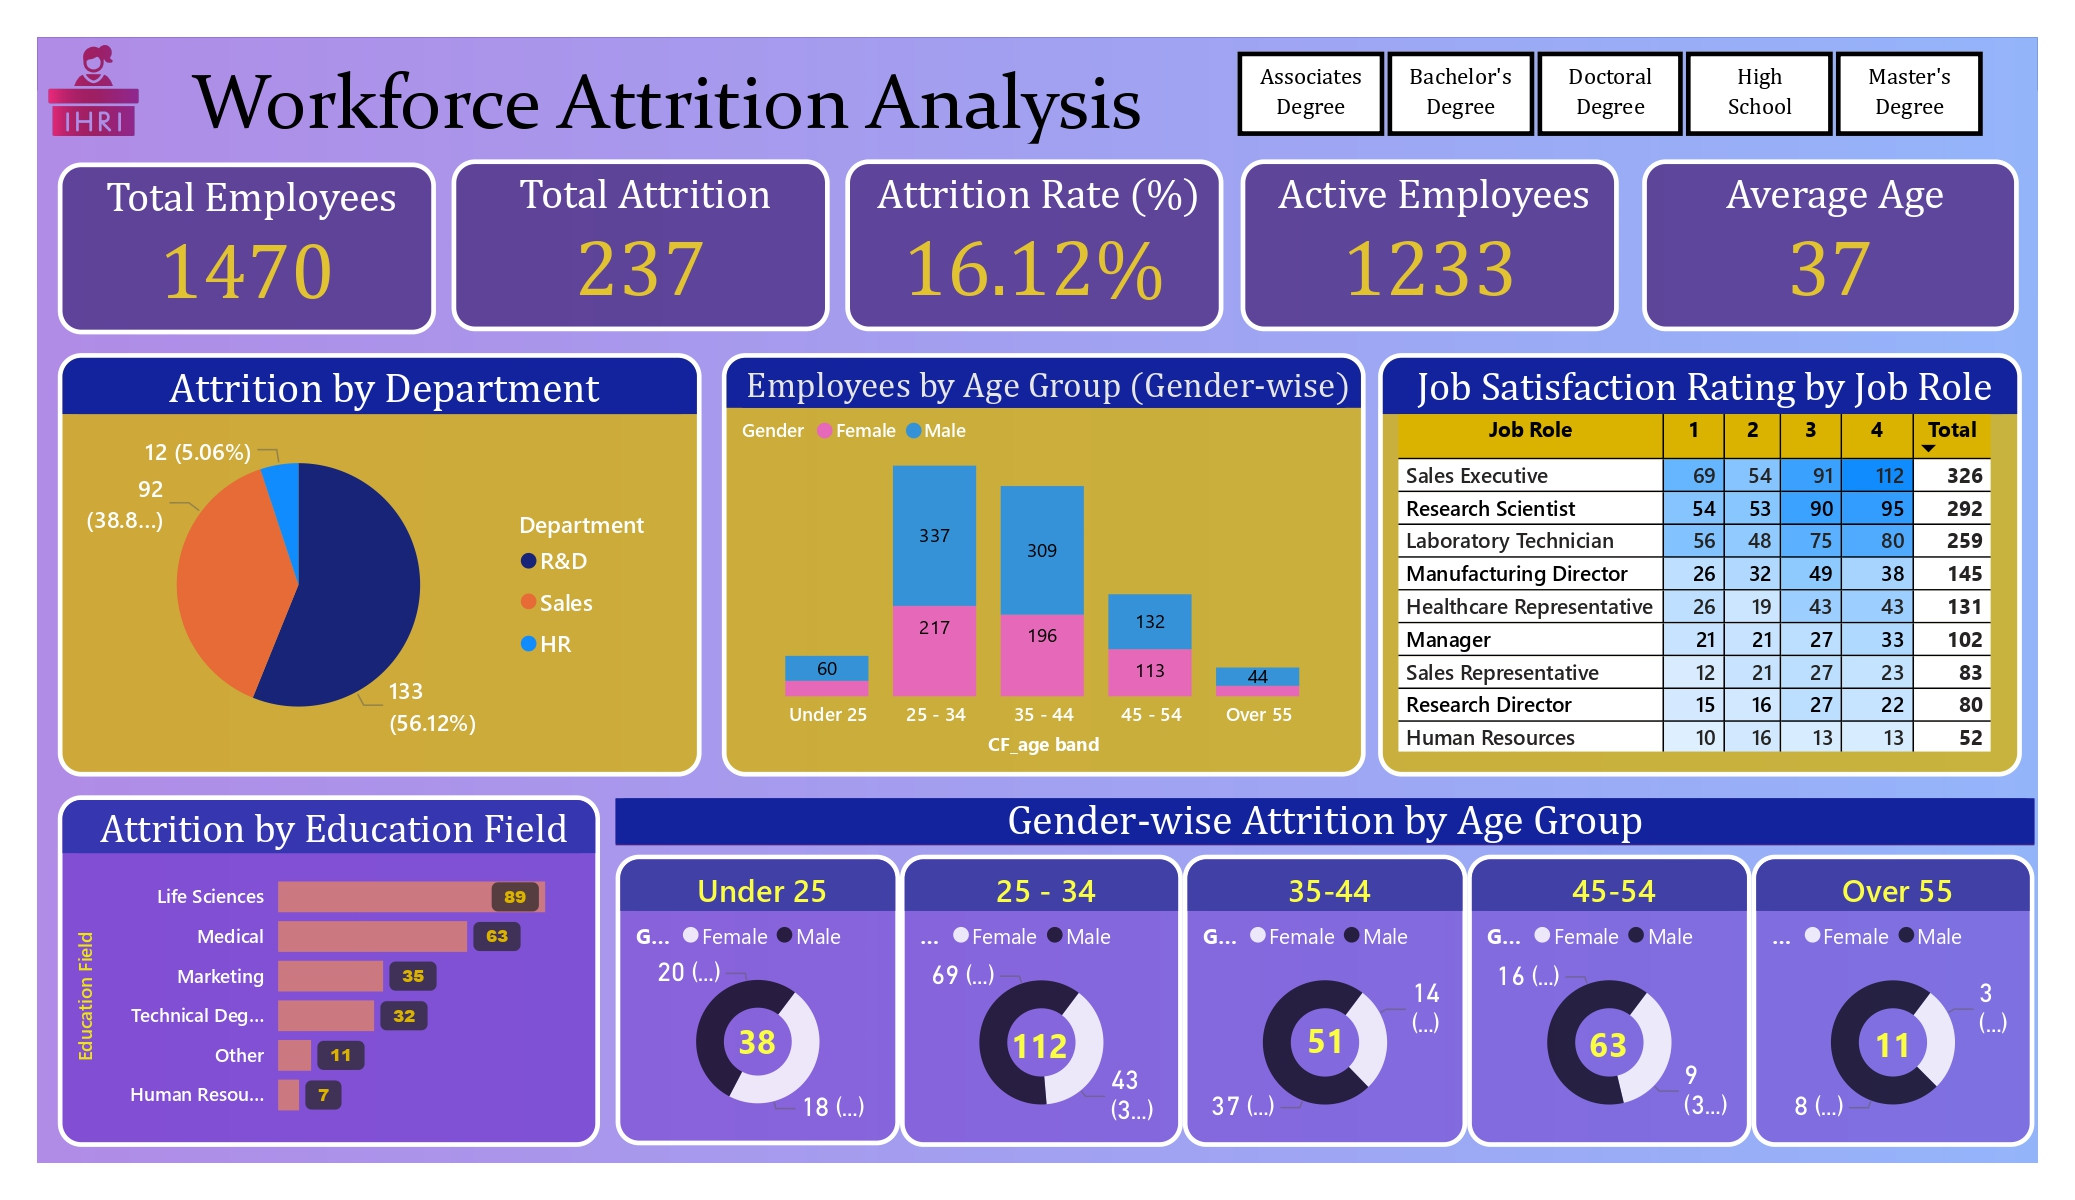

This screenshot's page, from the dashboard's own definition file:
{"tool":"powerbi","page":{"name":"Page 1","canvas":[1280,720],"ordinal":0},"visuals":[{"type":"card","title":"Total Employees","fields":{"Values":["Sum(HR data.Employee Count)"]},"box":[13.3,80,242,110],"z":0},{"type":"card","title":"Total Attrition","fields":{"Values":["Sum(HR data.Attrition Count)"]},"box":[265,78.3,242,110],"z":1000},{"type":"card","title":"Attrition Rate (%)","fields":{"Values":["HR data.Attrition_Count"]},"box":[516.7,78.3,242,110],"z":2000},{"type":"card","title":"Active Employees","fields":{"Values":["HR data.Active_Employees"]},"box":[770,78.3,242,110],"z":3000},{"type":"card","title":"Average Age ","fields":{"Values":["Avg(HR data.Age)"]},"box":[1026.7,78.3,241.7,110],"z":4000},{"type":"pieChart","title":"Attrition by Department","fields":{"Category":["HR data.Department"],"Y":["Sum(HR data.Attrition Count)"]},"box":[13.3,201.7,412,271.7],"z":5000},{"type":"columnChart","title":"Employees by Age Group (Gender-wise)","fields":{"Category":["HR data.CF_age band"],"Y":["Sum(HR data.Employee Count)"],"Series":["HR data.Gender"]},"box":[438.3,201.7,412,271.7],"z":6000},{"type":"pivotTable","title":"Job Satisfaction Rating by Job Role","fields":{"Rows":["HR data.Job Role"],"Columns":["HR data.Job Satisfaction"],"Values":["Sum(HR data.Employee Count)"]},"box":[858.3,201.7,412,271.7],"z":7000},{"type":"barChart","title":"Attrition by Education Field","fields":{"Category":["HR data.Education Field"],"Y":["Sum(HR data.Attrition Count)"]},"box":[13.3,485,346.7,225],"z":8000},{"type":"donutChart","title":"Under 25","fields":{"Category":["HR data.Gender"],"Y":["Sum(HR data.Attrition Count)"],"Series":["HR data.CF_age band"]},"box":[370,523.3,181.7,186],"z":9000},{"type":"textbox","title":"Gender-wise Attrition by Age Group","box":[370,486.7,908.3,30],"z":10000},{"type":"donutChart","title":"25 - 34","fields":{"Category":["HR data.Gender"],"Y":["Sum(HR data.Attrition Count)"],"Series":["HR data.CF_age band"]},"box":[551.7,523.3,181.7,186.7],"z":11000},{"type":"donutChart","title":"35-44","fields":{"Category":["HR data.Gender"],"Y":["Sum(HR data.Attrition Count)"],"Series":["HR data.CF_age band"]},"box":[733.3,523.3,181.7,186.7],"z":12000},{"type":"donutChart","title":"45-54","fields":{"Category":["HR data.Gender"],"Y":["Sum(HR data.Attrition Count)"],"Series":["HR data.CF_age band"]},"box":[914.7,523.4,182.2,187.1],"z":13000},{"type":"donutChart","title":"Over 55","fields":{"Category":["HR data.Gender"],"Y":["Sum(HR data.Attrition Count)"],"Series":["HR data.CF_age band"]},"box":[1096.9,523.4,181,187.1],"z":14000},{"type":"card","fields":{"Values":["Sum(HR data.Attrition Count)"]},"box":[443.3,630,35,28.3],"z":15000},{"type":"card","fields":{"Values":["Sum(HR data.Attrition Count)"]},"box":[615,628.3,53.3,36.7],"z":16000},{"type":"card","fields":{"Values":["Sum(HR data.Attrition Count)"]},"box":[796.7,613.3,55,60],"z":17000},{"type":"card","fields":{"Values":["Sum(HR data.Attrition Count)"]},"box":[983.3,616.7,45,58.3],"z":18000},{"type":"card","fields":{"Values":["Sum(HR data.Attrition Count)"]},"box":[1161.7,626.7,51.7,38.3],"z":19000},{"type":"textbox","title":"Workforce Attrition Analysis Dashboard","box":[72.1,11,661.6,57.5],"z":20000},{"type":"slicer","fields":{"Values":["HR data.Education"]},"box":[742.3,2.4,527,67.3],"z":21000},{"type":"image","box":[0,0,72.1,68.5],"z":22000}]}

Visuals, with their boxes in screenshot pixels (x1, y1, x2, y2):
"Total Employees" card: [64, 167, 437, 336]
"Total Attrition" card: [452, 164, 825, 334]
"Attrition Rate (%)" card: [840, 164, 1213, 334]
"Active Employees" card: [1231, 164, 1604, 334]
"Average Age " card: [1626, 164, 1999, 334]
"Attrition by Department" pieChart: [64, 354, 699, 773]
"Employees by Age Group (Gender-wise)" columnChart: [719, 354, 1354, 773]
"Job Satisfaction Rating by Job Role" pivotTable: [1367, 354, 2002, 773]
"Attrition by Education Field" barChart: [64, 791, 598, 1138]
"Under 25" donutChart: [614, 850, 894, 1137]
"Gender-wise Attrition by Age Group" textbox: [614, 794, 2014, 840]
"25 - 34" donutChart: [894, 850, 1174, 1138]
"35-44" donutChart: [1174, 850, 1454, 1138]
"45-54" donutChart: [1454, 850, 1735, 1139]
"Over 55" donutChart: [1735, 850, 2014, 1139]
card - Sum(HR data.Attrition Count): [727, 1015, 781, 1058]
card - Sum(HR data.Attrition Count): [992, 1012, 1074, 1069]
card - Sum(HR data.Attrition Count): [1272, 989, 1357, 1081]
card - Sum(HR data.Attrition Count): [1559, 994, 1629, 1084]
card - Sum(HR data.Attrition Count): [1835, 1010, 1914, 1069]
"Workforce Attrition Analysis Dashboard" textbox: [154, 60, 1175, 149]
slicer - HR data.Education: [1188, 47, 2001, 151]
image: [43, 43, 154, 149]
